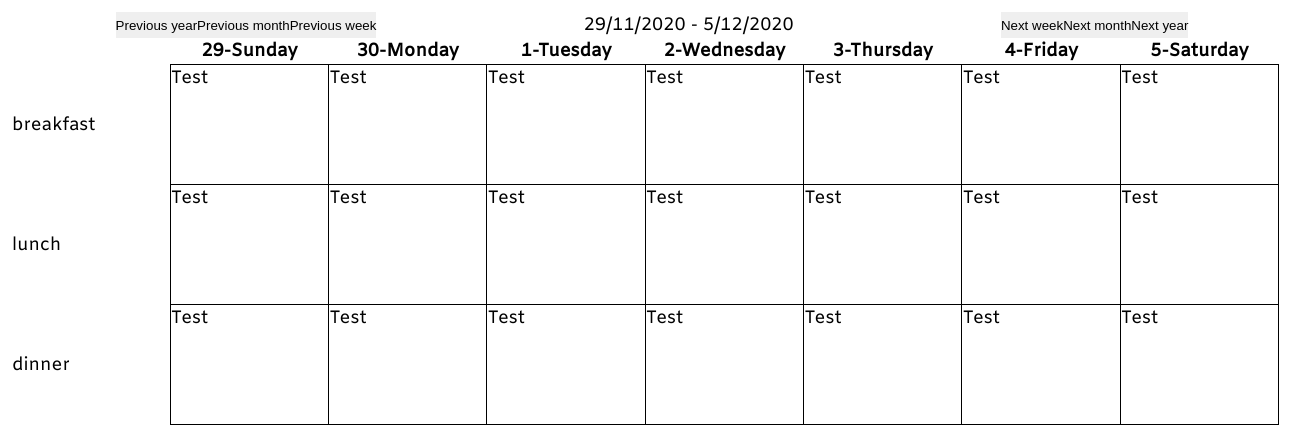
Test case: recipe calendar › should render the previous week when selected
Click the button "Previous week": (333, 25) [290,12,376,38]
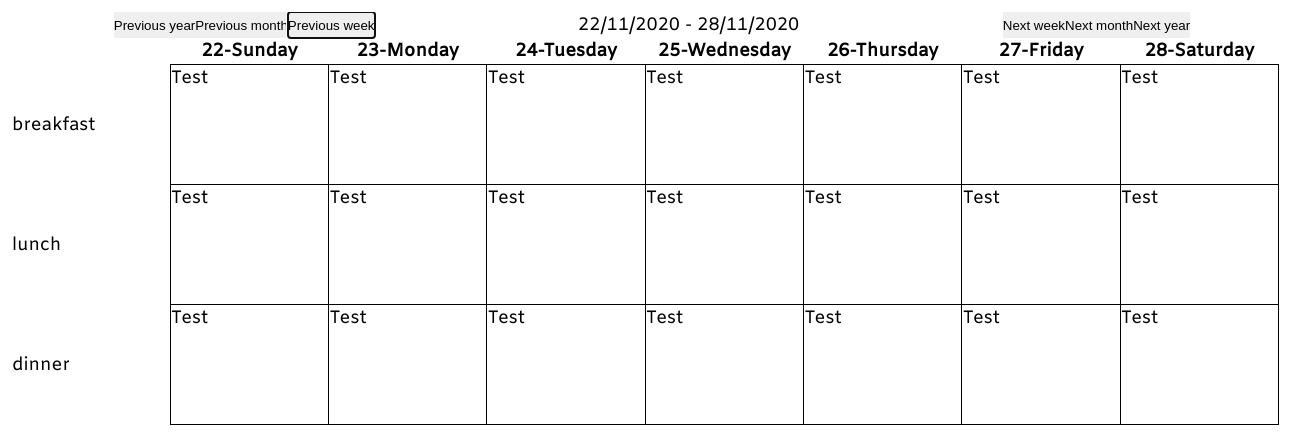
Result: the text with test id "selectedWeek" reads "22/11/2020 - 28/11/2020" at [578,12,799,38]
